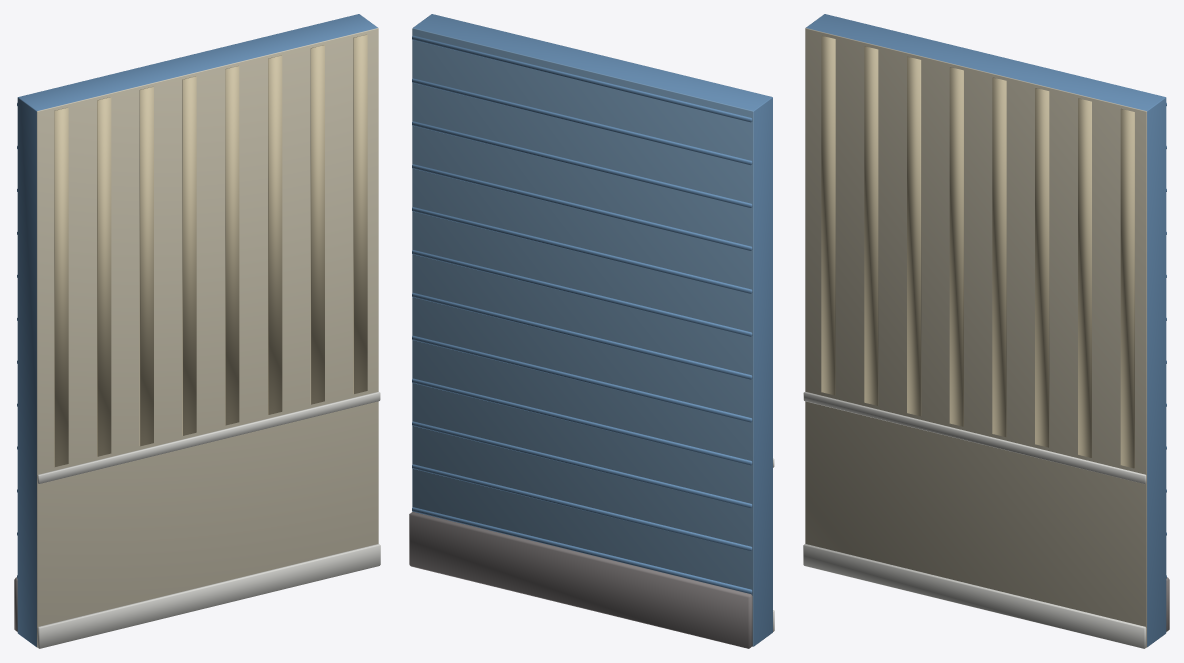
The model's file is wall_blue.glb.
3 renders of one model, left to right at view 1: azimuth 30°, elevation 25°; view 2: azimuth 150°, elevation 25°; view 3: azimuth 330°, elevation 25°, orthographic.
Visible parts, largest first — view 1: wall_blue; view 2: wall_blue; view 3: wall_blue.
Boxes of the visible parts, bbox=[...] form: wall_blue: bbox=[14, 14, 380, 648]; wall_blue: bbox=[409, 14, 774, 648]; wall_blue: bbox=[803, 14, 1169, 648].
Size of the model in its own units: 2 by 3 by 0.26.
